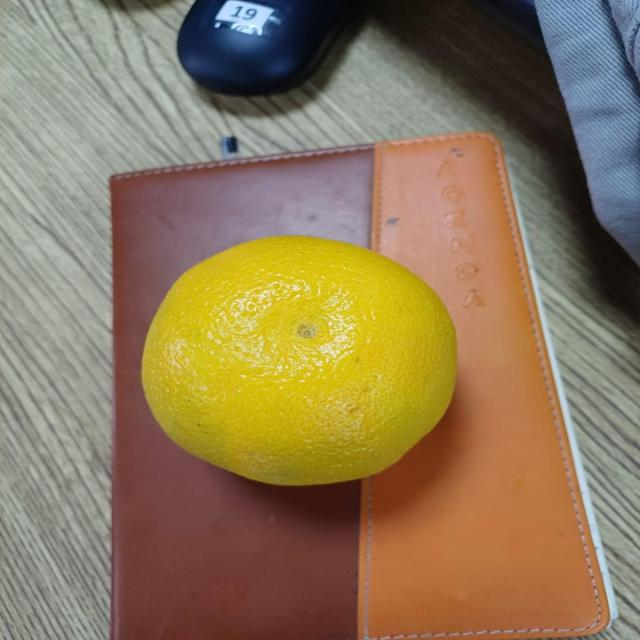Jeruk: (136, 223, 480, 512)
